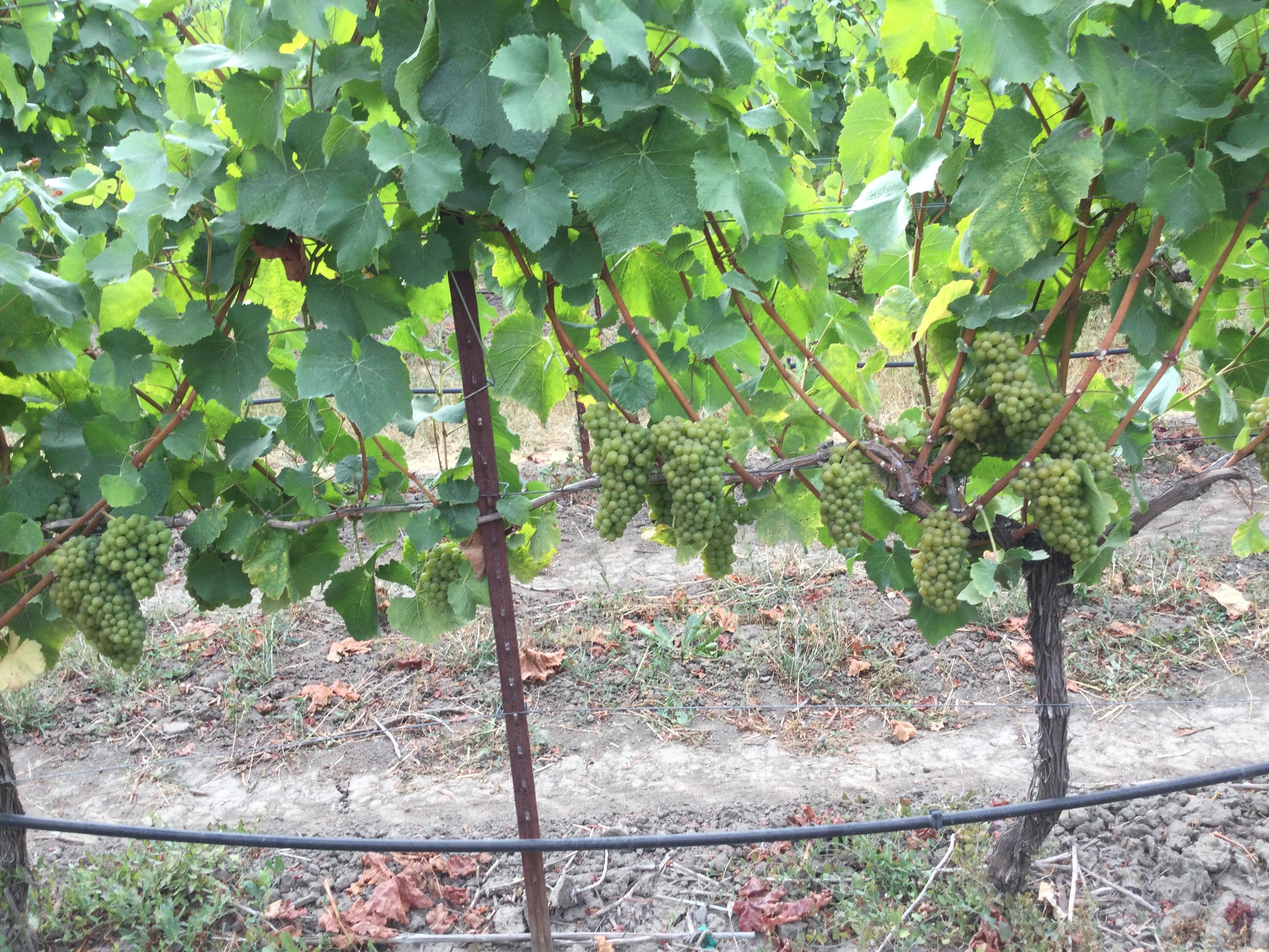leaf: (952, 109, 1101, 274), (553, 107, 697, 254), (418, 0, 546, 159), (295, 329, 410, 438), (692, 133, 785, 236), (183, 304, 271, 408), (942, 0, 1052, 82), (486, 313, 566, 423), (367, 122, 461, 213), (489, 156, 572, 250), (489, 34, 570, 130), (1144, 149, 1224, 236), (837, 86, 893, 184), (571, 0, 648, 65), (323, 562, 379, 640), (421, 285, 425, 286), (402, 366, 403, 369), (327, 391, 328, 392)
